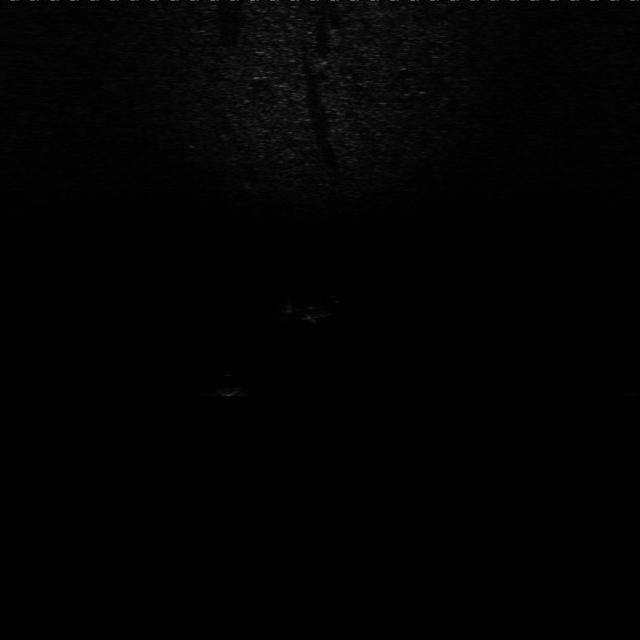ball: (212, 371, 243, 397)
human body: (282, 293, 341, 325)
